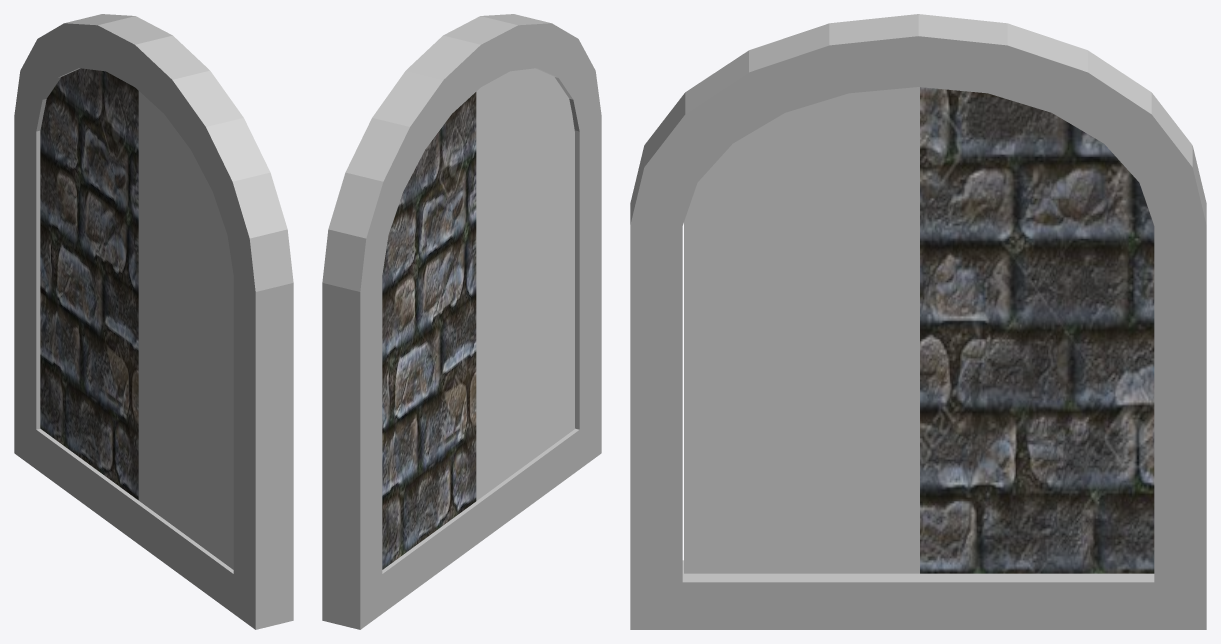
File: pinballGate.fbx
The picture shows the model from 3 angles, left to right: view 1: azimuth 30°, elevation 25°; view 2: azimuth 150°, elevation 25°; view 3: azimuth 270°, elevation 25°; orthographic projection. The views are drawn at different scales.
Parts seen in each view (by area): view 1: gateFrame, rightGate, leftGate; view 2: gateFrame, leftGate, rightGate; view 3: gateFrame, leftGate, rightGate.
Part boxes in pixels (<box>): gateFrame: <box>14,14,293,629</box>; rightGate: <box>40,68,138,500</box>; leftGate: <box>138,91,233,569</box>; gateFrame: <box>322,14,601,629</box>; leftGate: <box>476,68,574,500</box>; rightGate: <box>382,92,476,569</box>; gateFrame: <box>630,14,1206,629</box>; leftGate: <box>684,87,919,573</box>; rightGate: <box>920,87,1154,573</box>.
Size of the model in its own units: 200 by 2500 by 2200.
